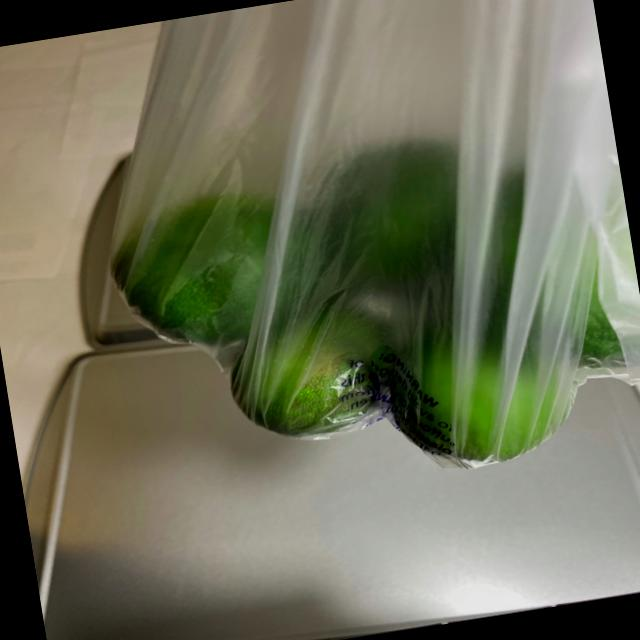lemon: (98, 118, 640, 513)
